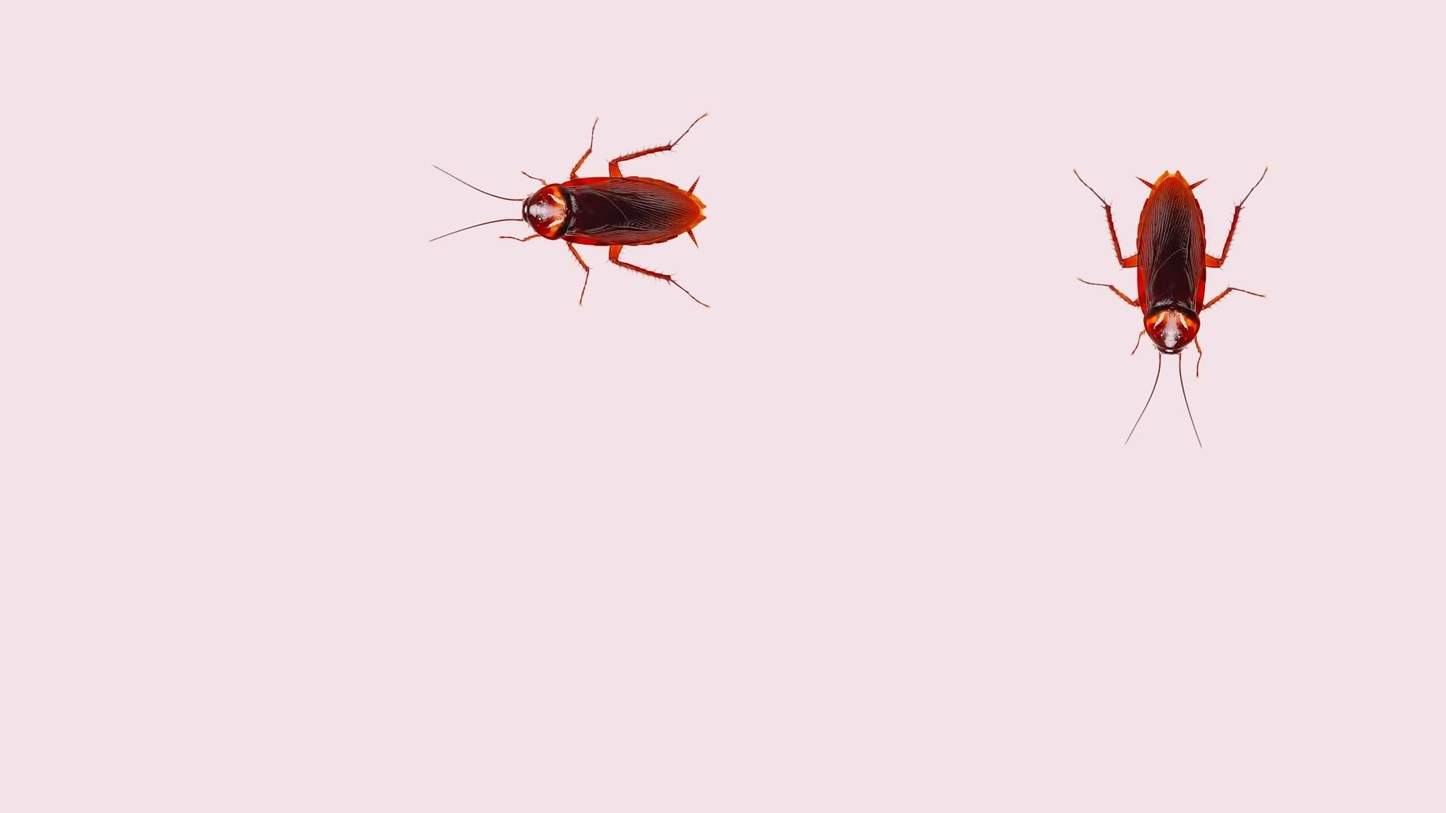cockroach: (1054, 158, 1281, 449), (420, 102, 720, 311)
